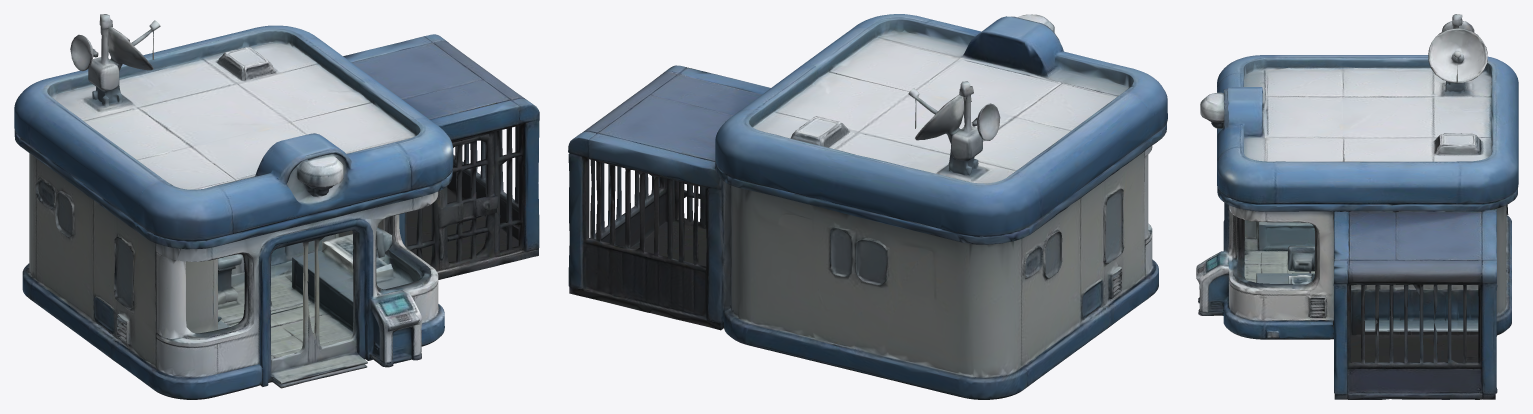
The model's file is delegacia.glb.
3 views of the same model, side by side, from view 1: azimuth 30°, elevation 25°; view 2: azimuth 150°, elevation 25°; view 3: azimuth 270°, elevation 25° (orthographic). The views are drawn at different scales.
Parts seen in each view (by area): view 1: delegacia; view 2: delegacia; view 3: delegacia.
Boxes of the visible parts, x1,y1,x2,y2 form: delegacia: (14,14,539,399); delegacia: (568,14,1167,399); delegacia: (1196,14,1518,399).
Bounding box in the file's own units: 13 × 7.85 × 9.76.
Materials: 1 (1 with a texture image).
